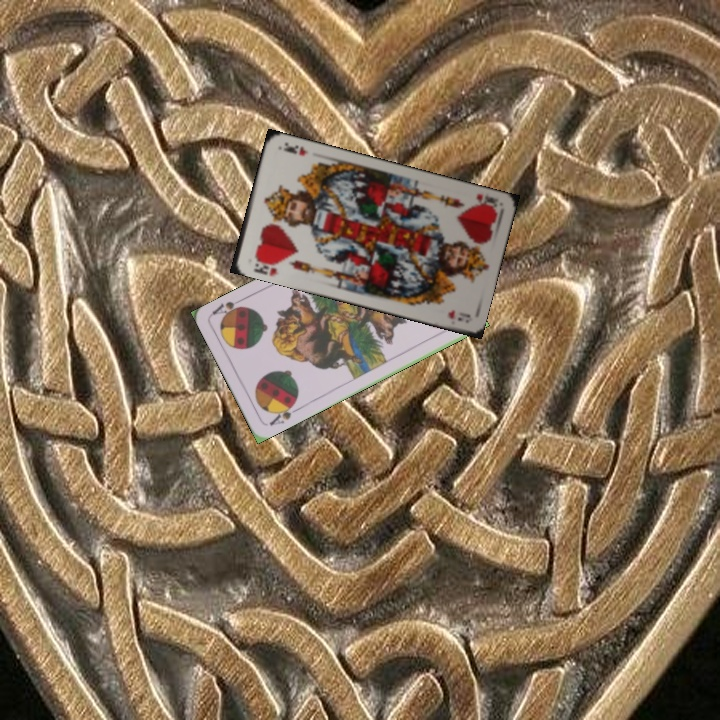HK: (249, 253, 281, 278), (471, 190, 501, 213)
SA: (265, 398, 302, 428)
